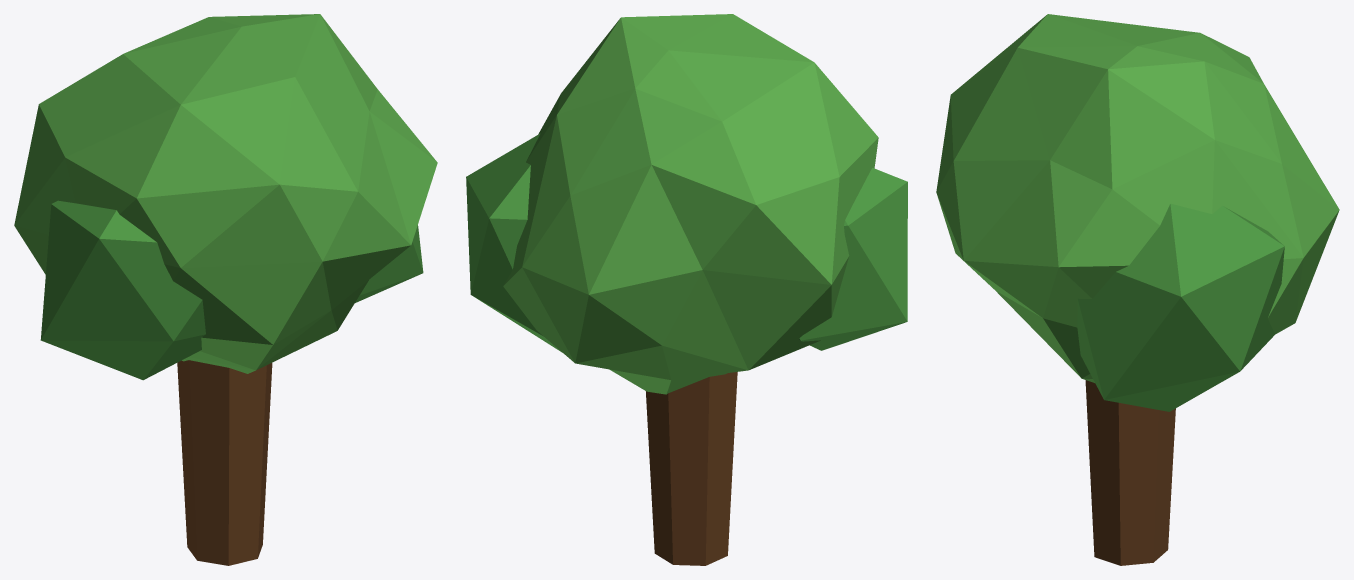
Rendered from oak.glb.
The picture shows the model from 3 angles, left to right: view 1: azimuth 30°, elevation 25°; view 2: azimuth 150°, elevation 25°; view 3: azimuth 270°, elevation 25°; orthographic projection. The views are drawn at different scales.
Parts seen in each view (by area): view 1: g_m_5aa84a, g_m_4a9440, g_m_6b4423; view 2: g_m_5aa84a, g_m_4a9440, g_m_6b4423; view 3: g_m_5aa84a, g_m_4a9440, g_m_6b4423.
Part boxes in pixels (bbox=[...]): g_m_5aa84a: bbox=[14, 14, 437, 373]; g_m_4a9440: bbox=[40, 200, 423, 380]; g_m_6b4423: bbox=[177, 360, 272, 565]; g_m_5aa84a: bbox=[503, 14, 878, 394]; g_m_4a9440: bbox=[466, 133, 907, 352]; g_m_6b4423: bbox=[646, 372, 737, 565]; g_m_5aa84a: bbox=[936, 14, 1339, 382]; g_m_4a9440: bbox=[1077, 203, 1284, 411]; g_m_6b4423: bbox=[1085, 380, 1175, 565].
Size of the model in its own units: 3.66 by 4.45 by 3.12.
